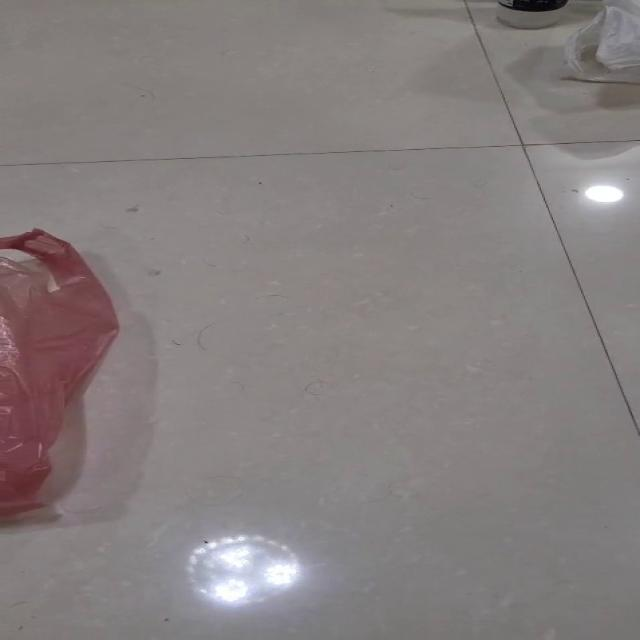plastic: (0, 227, 119, 521)
